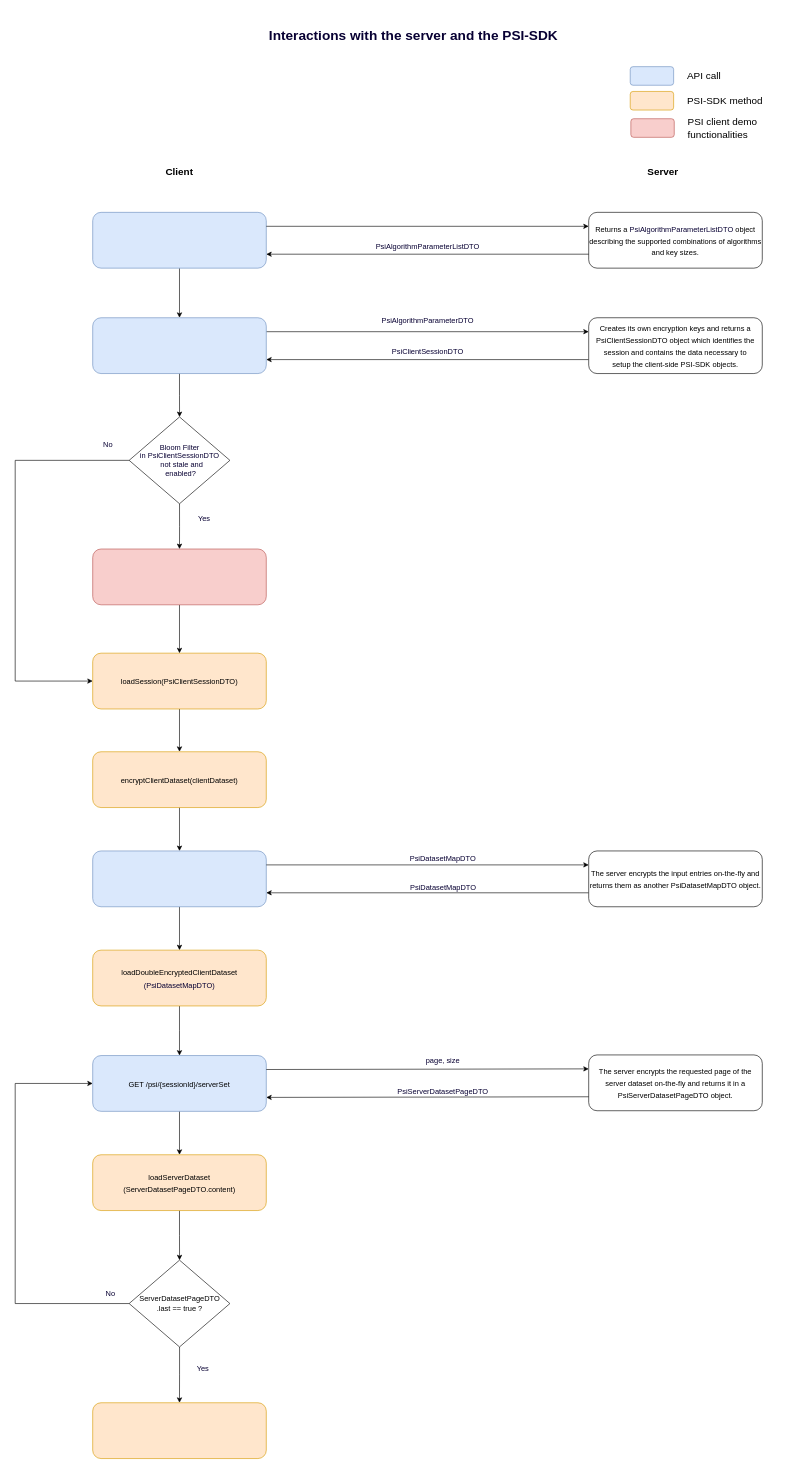
This 805x1469 diagram has some shape labels left out. The shapes that lost their labels are listed below. From the top down, each one's centre as x and y in pixels, then its label:
At pixel 179 240: "GET /psi/parameters".
At pixel 179 345: "POST /psi".
At pixel 179 576: "Filter the client dataset with the Bloom Filter sent by the server".
At pixel 179 878: "POST /psi/{sessionId}/clientSet".
At pixel 179 1430: "computePsi()".
